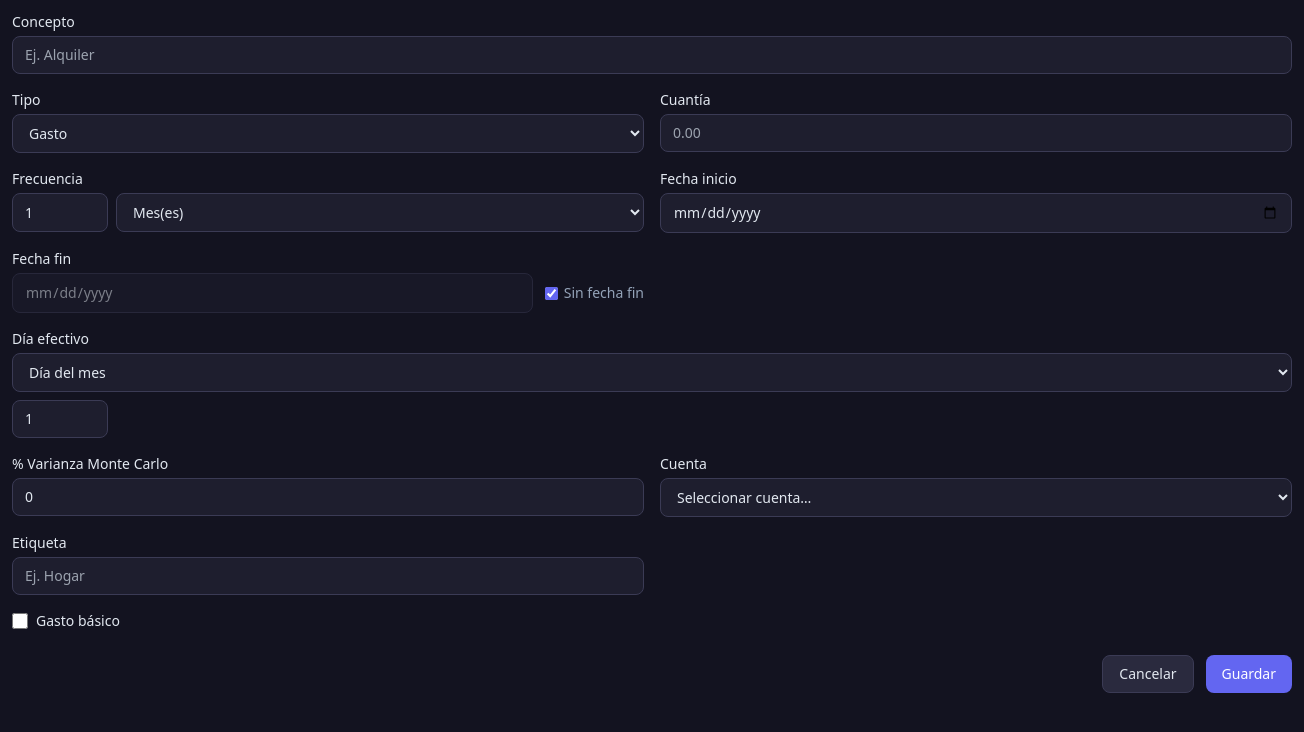
Scenario: FixedMovementForm › shows target account field when type is transfer
Expected: the field labelled "Cuenta destino" is not shown
Select "Transferencia" in the dropdown labelled "Tipo": (328, 134) [12,114,644,153]
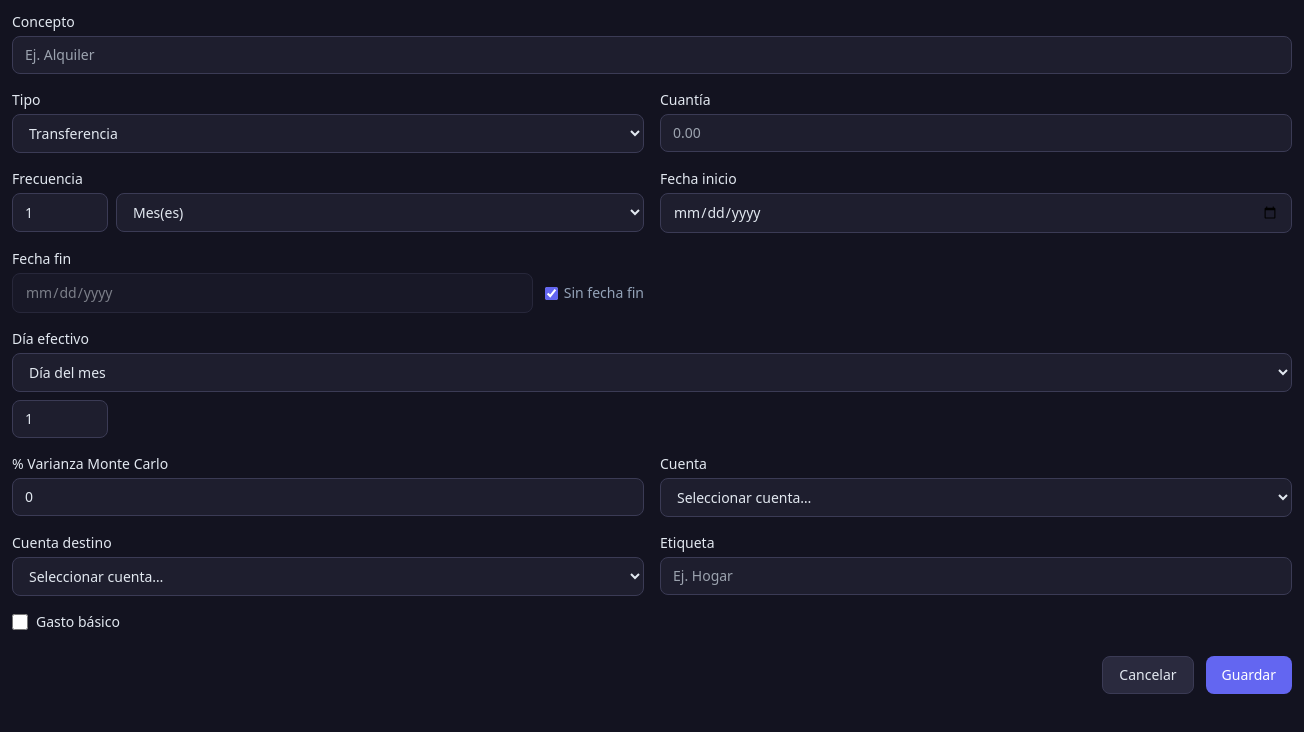
Now the dropdown labelled "Cuenta destino" is shown, box [12,557,644,596]
